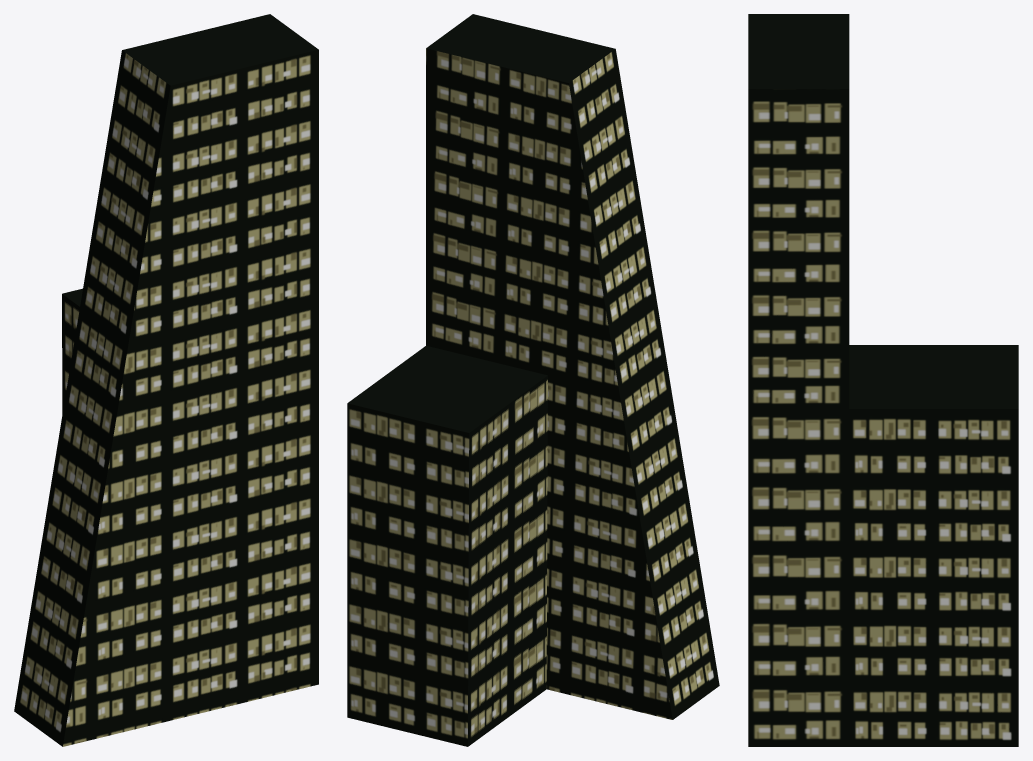
File: BuildingA1.FBX
The picture shows the model from 3 angles, left to right: view 1: azimuth 30°, elevation 25°; view 2: azimuth 150°, elevation 25°; view 3: azimuth 270°, elevation 25°; orthographic projection. The views are drawn at different scales.
Parts seen in each view (by area): view 1: Box001; view 2: Box001; view 3: Box001.
Boxes of the visible parts, x1,y1,x2,y2 form: Box001: (14,14,318,746); Box001: (347,14,719,746); Box001: (748,14,1018,746).
Bounding box in the file's own units: 996 × 2360 × 879.
